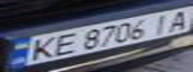0: (115, 20, 136, 44)
6: (127, 16, 154, 40)
7: (100, 22, 121, 47)
8: (78, 26, 103, 51)
A: (160, 8, 193, 33)
E: (45, 30, 81, 57)
I: (148, 12, 178, 36)
K: (21, 34, 63, 63)
